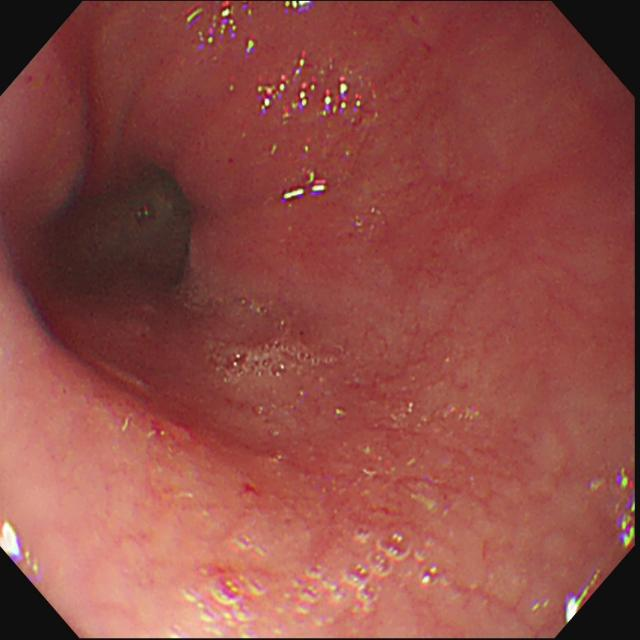E: (37, 146, 201, 311)
T: (169, 528, 447, 638), (182, 286, 340, 383)
U: (258, 52, 365, 121), (186, 2, 239, 45), (565, 571, 602, 624), (614, 468, 635, 552), (280, 170, 328, 201), (2, 520, 23, 566), (282, 2, 311, 12), (244, 36, 258, 54)
